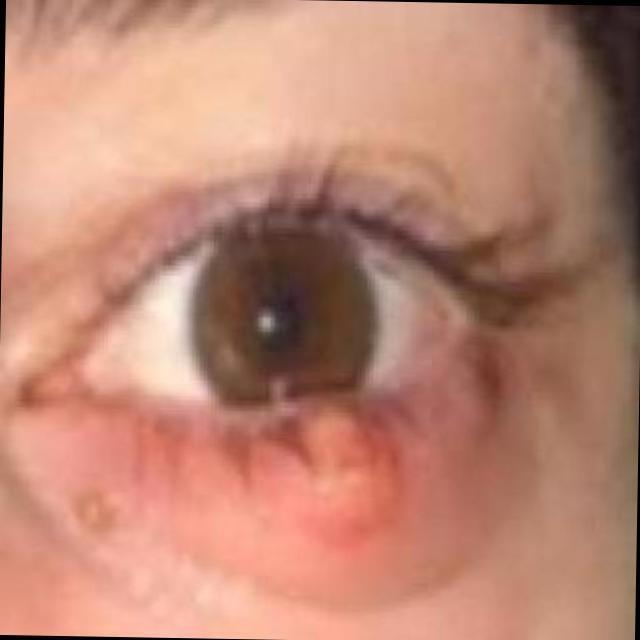Stye: (186, 348, 500, 568)
